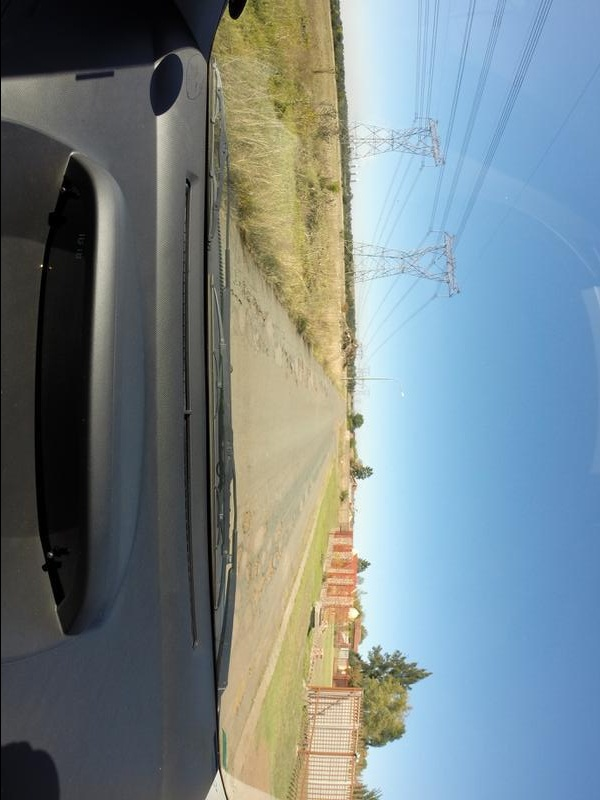pothole: (243, 287, 269, 318), (233, 678, 250, 712), (254, 525, 268, 554), (267, 561, 281, 582), (243, 511, 251, 537), (276, 520, 286, 540), (231, 295, 239, 313), (245, 567, 253, 583), (288, 364, 296, 378), (248, 602, 255, 617), (300, 360, 304, 378), (263, 345, 268, 357)
